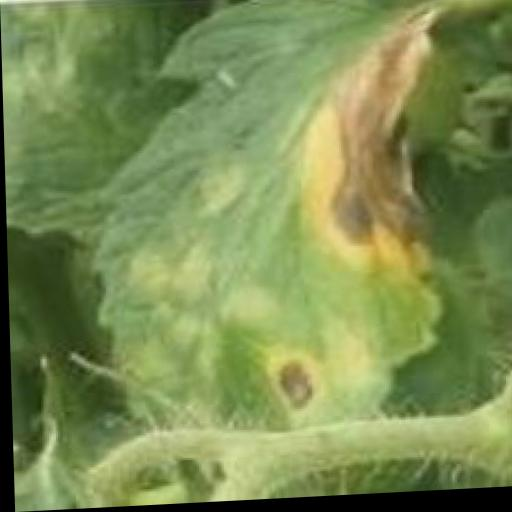Late Blight: (81, 0, 446, 442)
